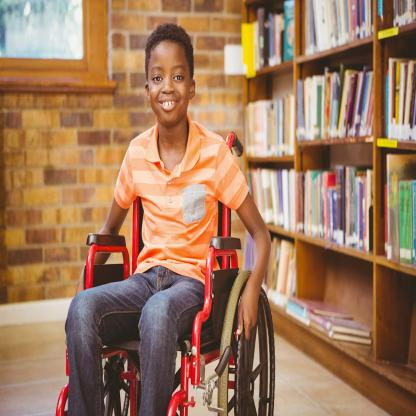wheelchair: (58, 23, 276, 416)
